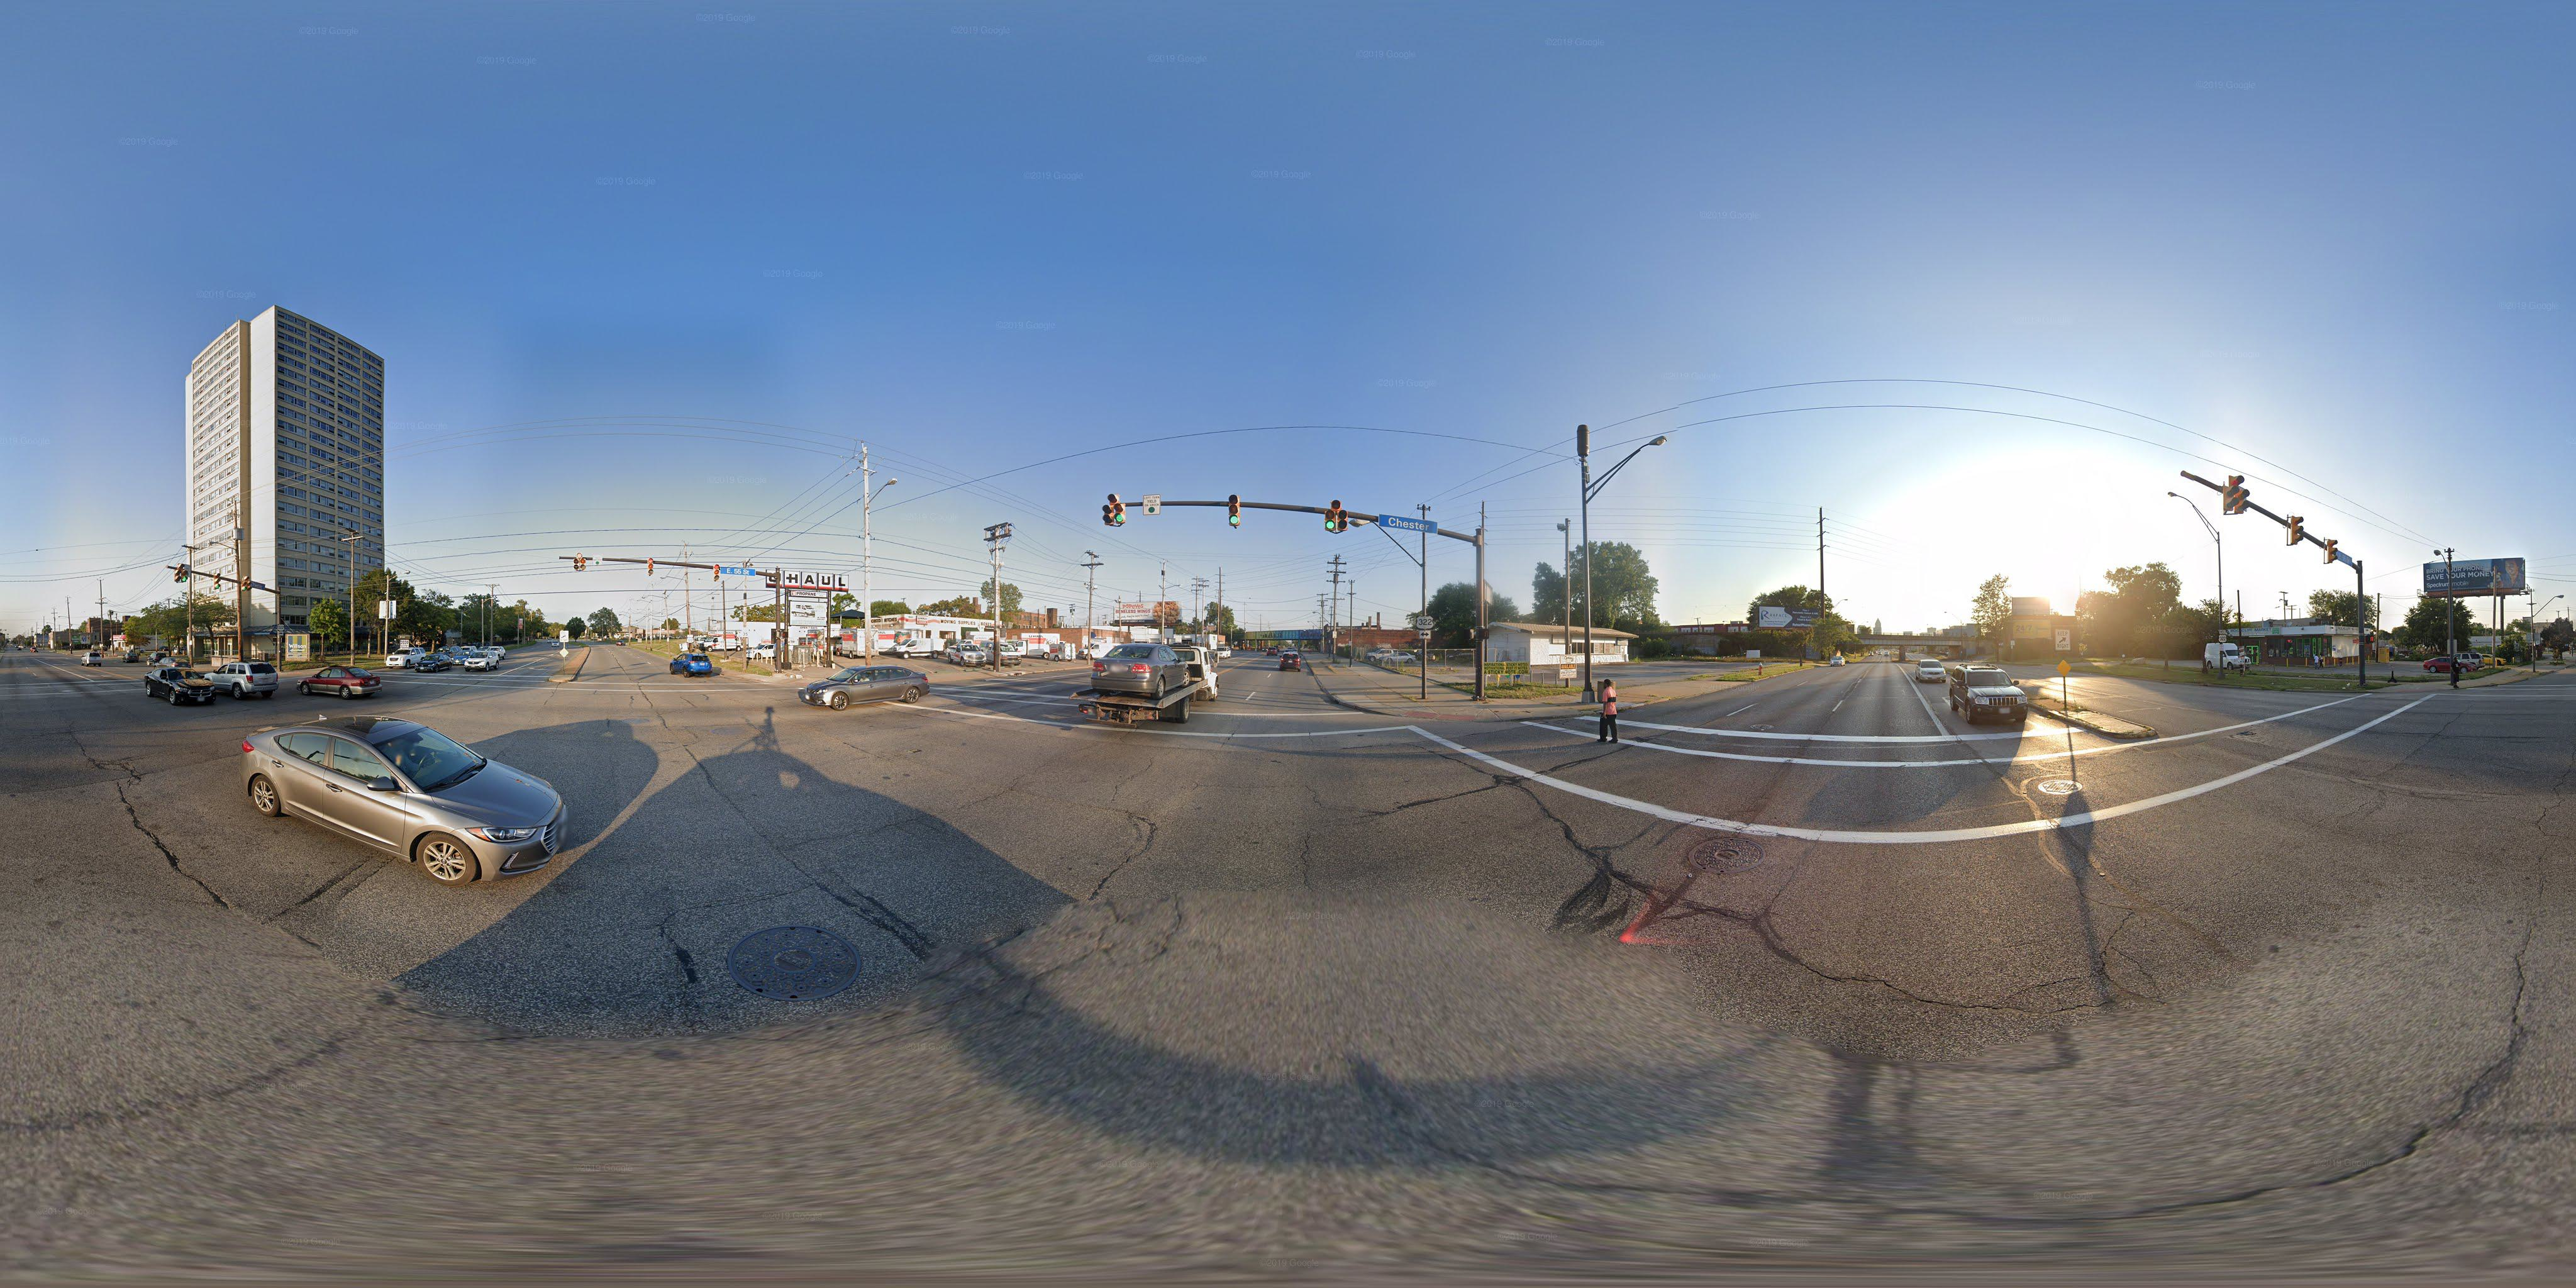Curb Ramp: (1383, 698, 1487, 738), (2384, 677, 2425, 706), (785, 674, 810, 690)
Missing Curb Ramp: (2440, 680, 2474, 700)
